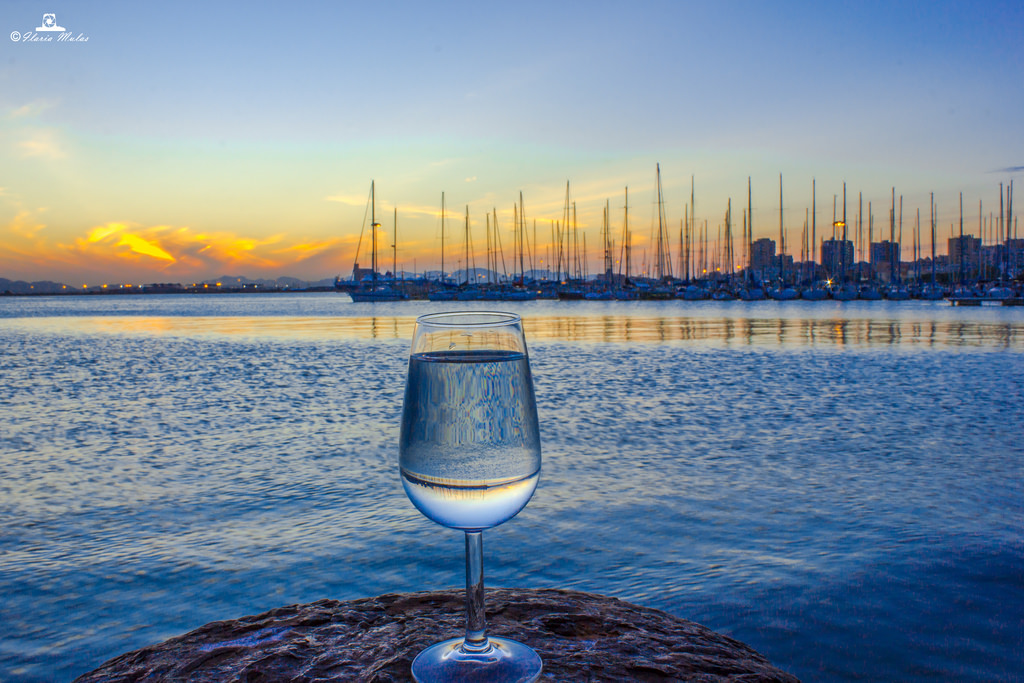glass of water: (409, 305, 550, 683)
